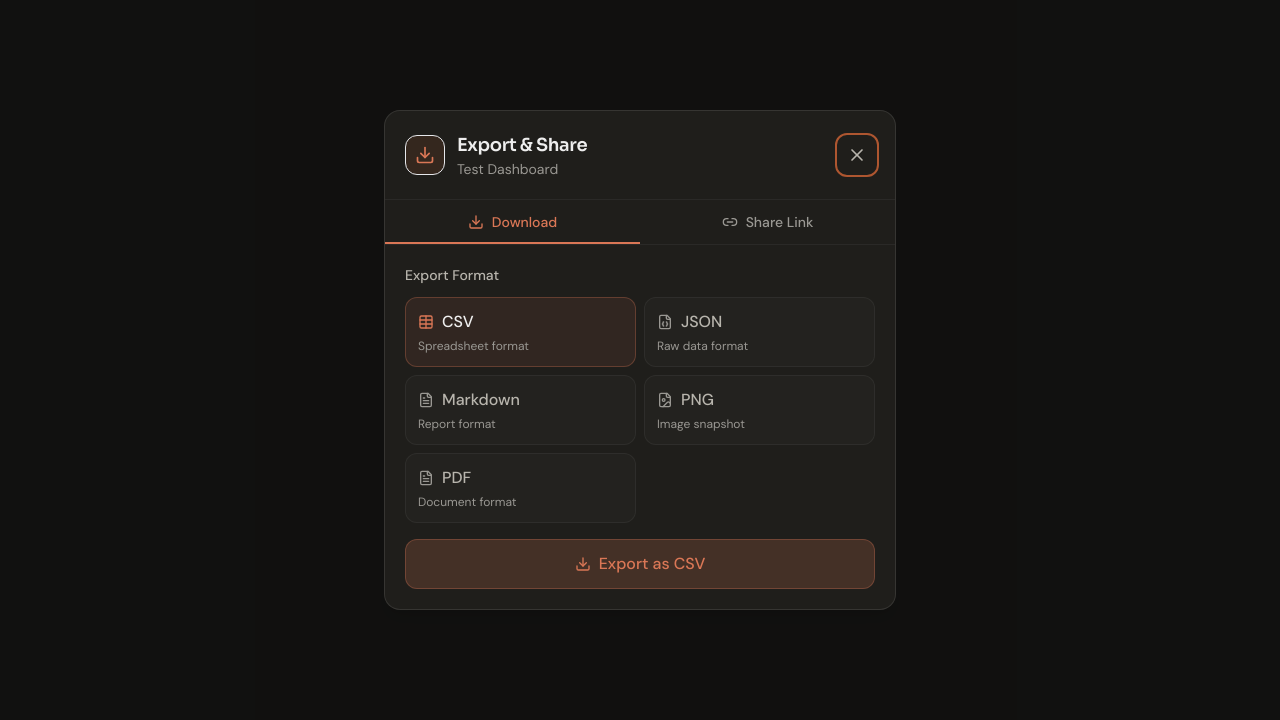
Scenario: ExportModal › format selection › should change selected format on click
Click the radio button "JSON": (760, 332) top-left (644, 297), bottom-right (875, 367)
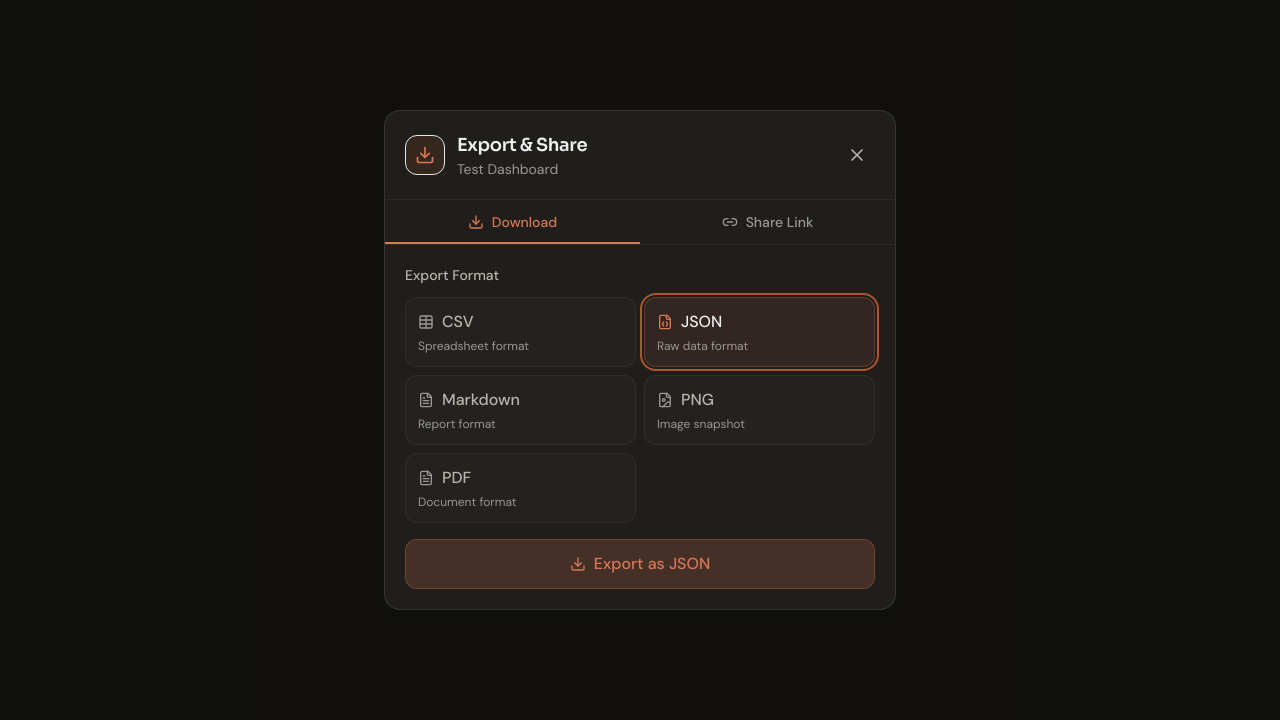
Expected: the button "Export as JSON" is shown, top-left (405, 539), bottom-right (875, 589)
